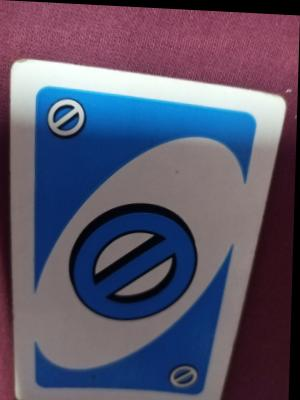blue: (17, 85, 233, 400)
skip: (43, 94, 90, 139), (169, 360, 202, 389)
